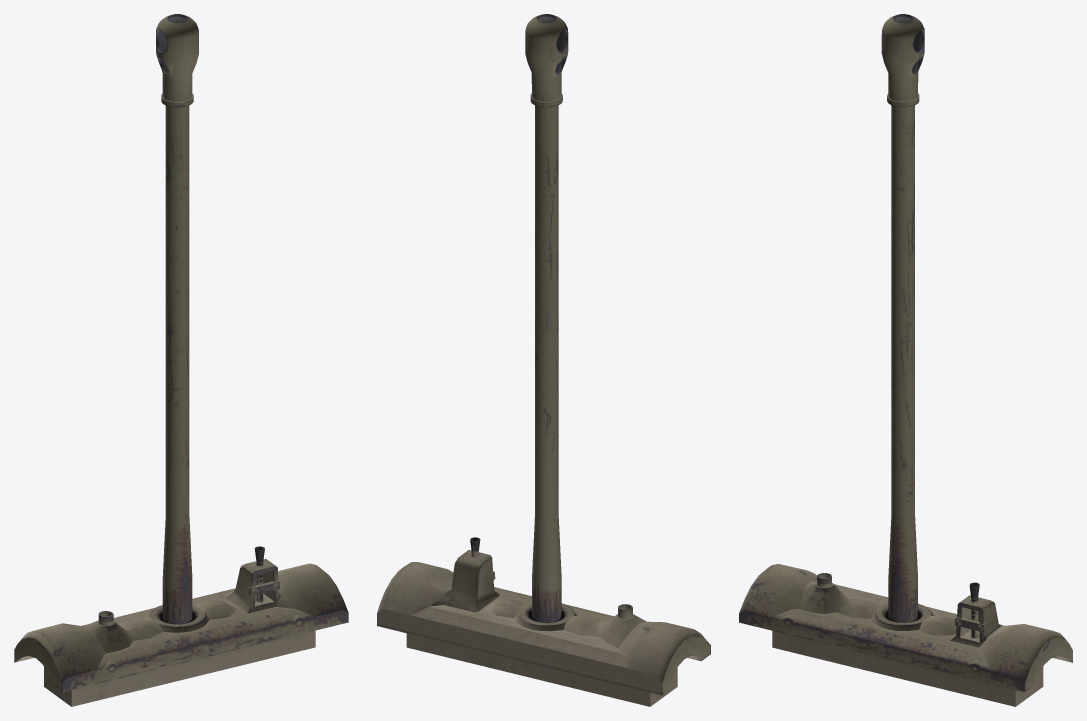
File: Gun_06.glb
3 views of the same model, side by side, from view 1: azimuth 30°, elevation 25°; view 2: azimuth 150°, elevation 25°; view 3: azimuth 330°, elevation 25° (orthographic).
Visible parts, largest first — view 1: set_0_group_0; view 2: set_0_group_0; view 3: set_0_group_0.
Boxes of the visible parts, x1=… form: set_0_group_0: x1=14, y1=14, x2=348, y2=706; set_0_group_0: x1=377, y1=14, x2=710, y2=706; set_0_group_0: x1=739, y1=14, x2=1072, y2=706.
Size of the model in its own units: 1.53 by 3.33 by 0.4497.
1 material, 1 textured.
